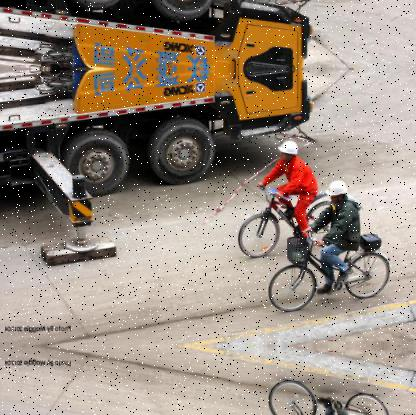helmet: (277, 138, 301, 161), (329, 179, 351, 204)
